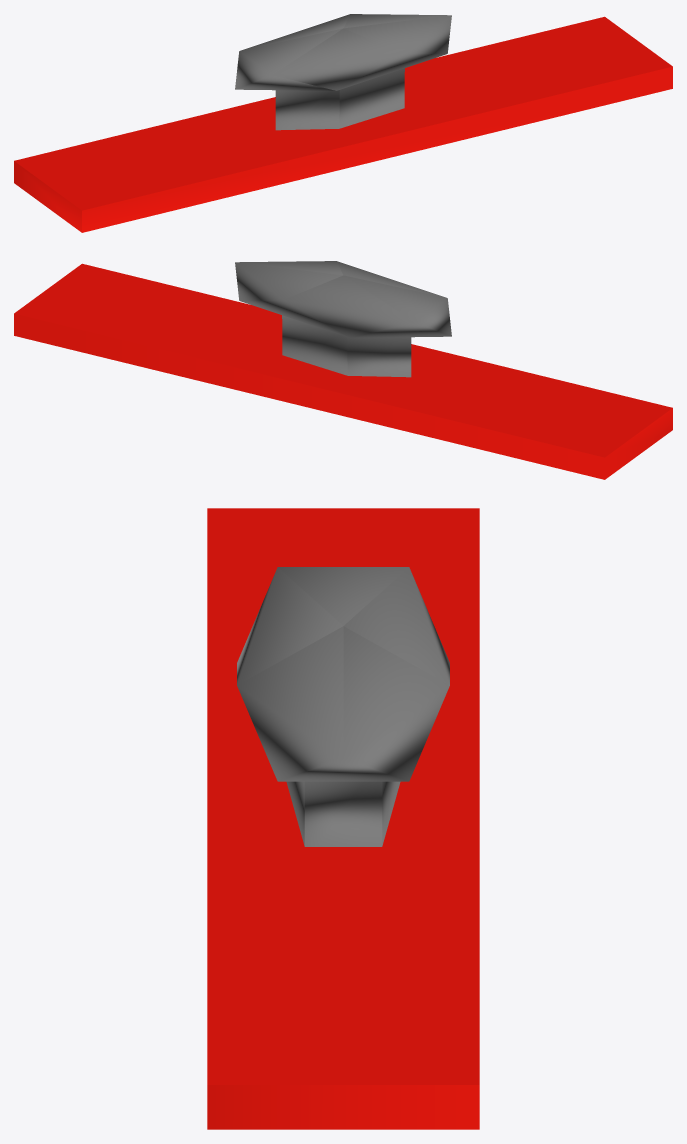
Rendered from Timbroinizio.glb.
The picture shows the model from 3 angles, top to bottom: view 1: azimuth 30°, elevation 25°; view 2: azimuth 150°, elevation 25°; view 3: azimuth 270°, elevation 25°; orthographic projection. The views are drawn at different scales.
Visible parts, largest first — view 1: Cube.001; view 2: Cube.001; view 3: Cube.001.
Boxes of the visible parts, box(x1,y1,x2,y2) form: Cube.001: box(14, 14, 672, 232); Cube.001: box(14, 261, 672, 479); Cube.001: box(207, 508, 479, 1129).
Size of the model in its own units: 1.29 by 0.2246 by 0.2578.
